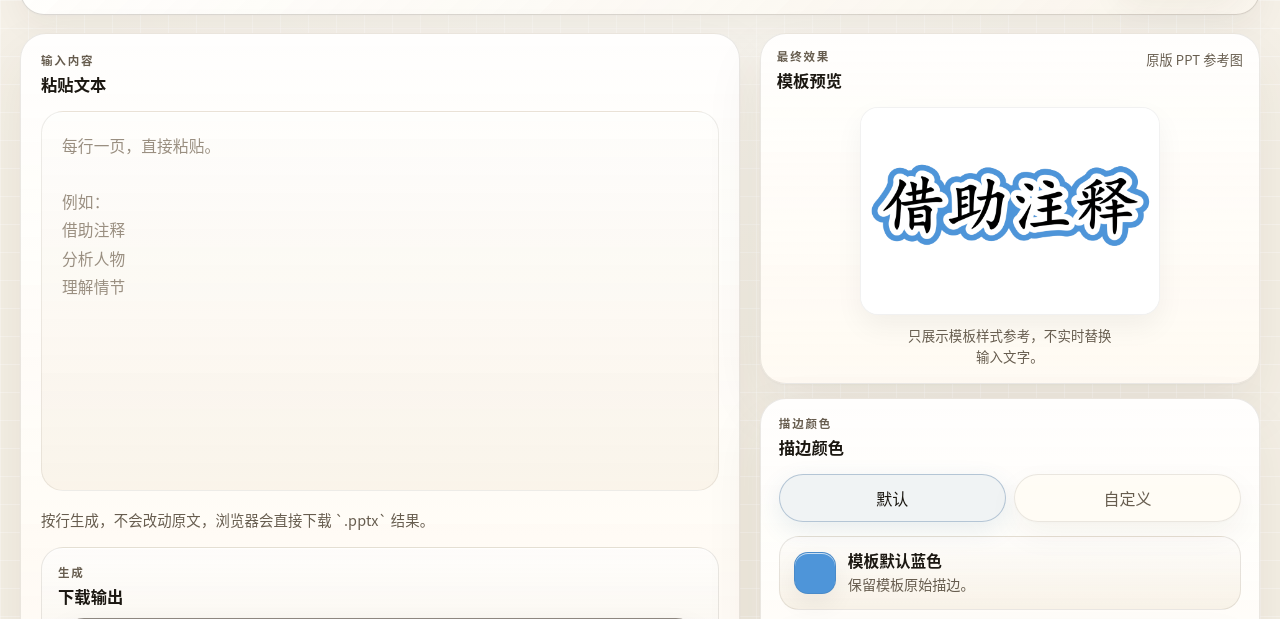
it: App › surfaces generation failures inside the workflow rail
The image size is (1280, 619).
(page scrolled)
Type "第一页" into the text box with placeholder "每行一页，直接粘贴。 例如： 借助注释 分析人物 理解情节". click: (380, 301)
box: 41,111 -> 719,491
(page scrolled)
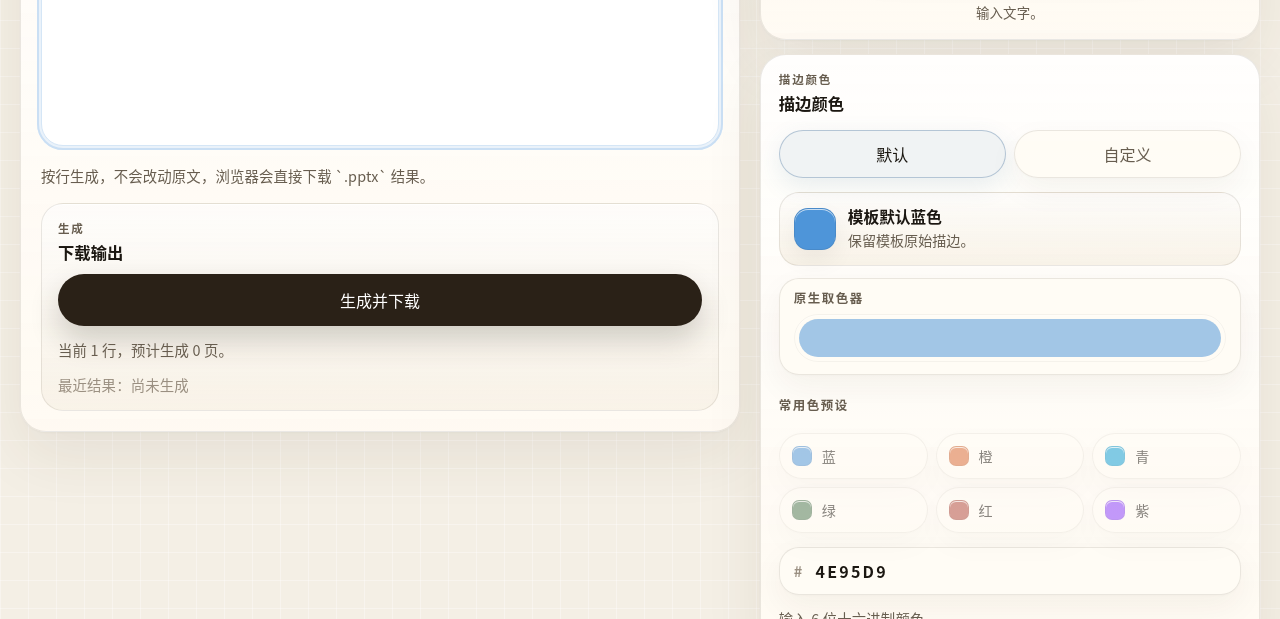
Click the button "生成并下载". click: (380, 300)
box: 58,274 -> 702,326
(page scrolled)
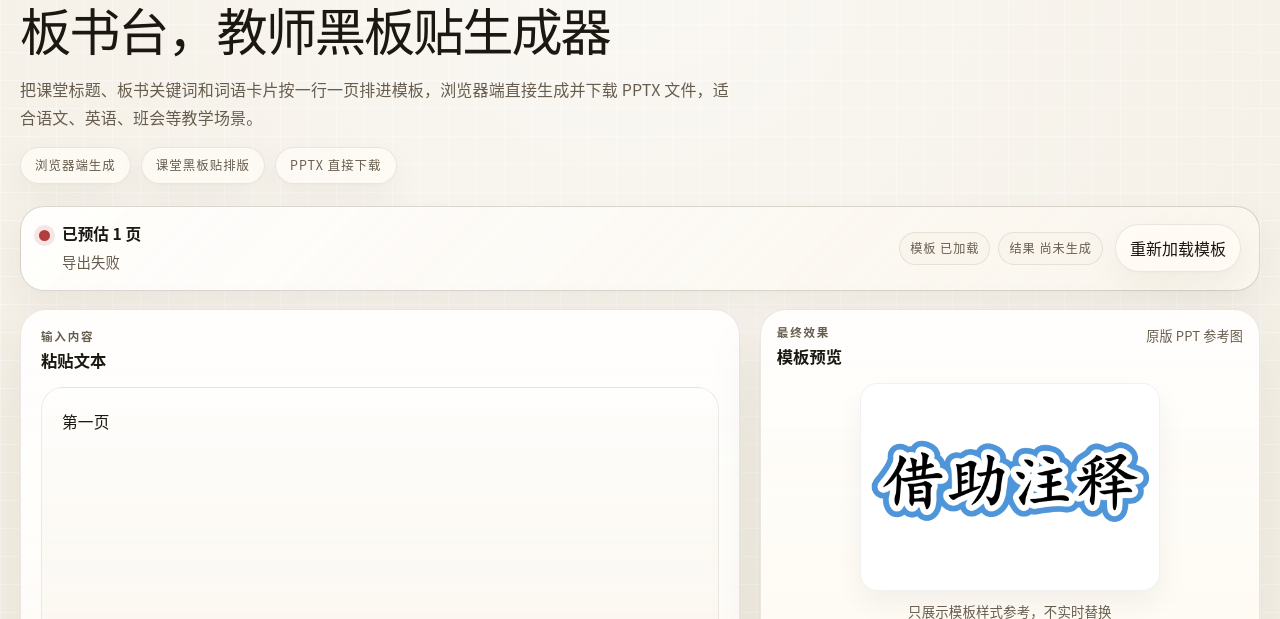
Check: the heading named "生成失败" is shown, box 62,223 -> 141,244
Check: the text "导出失败" is shown, box 62,251 -> 120,272
